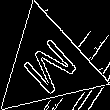M_SE: (14, 31, 81, 99)
